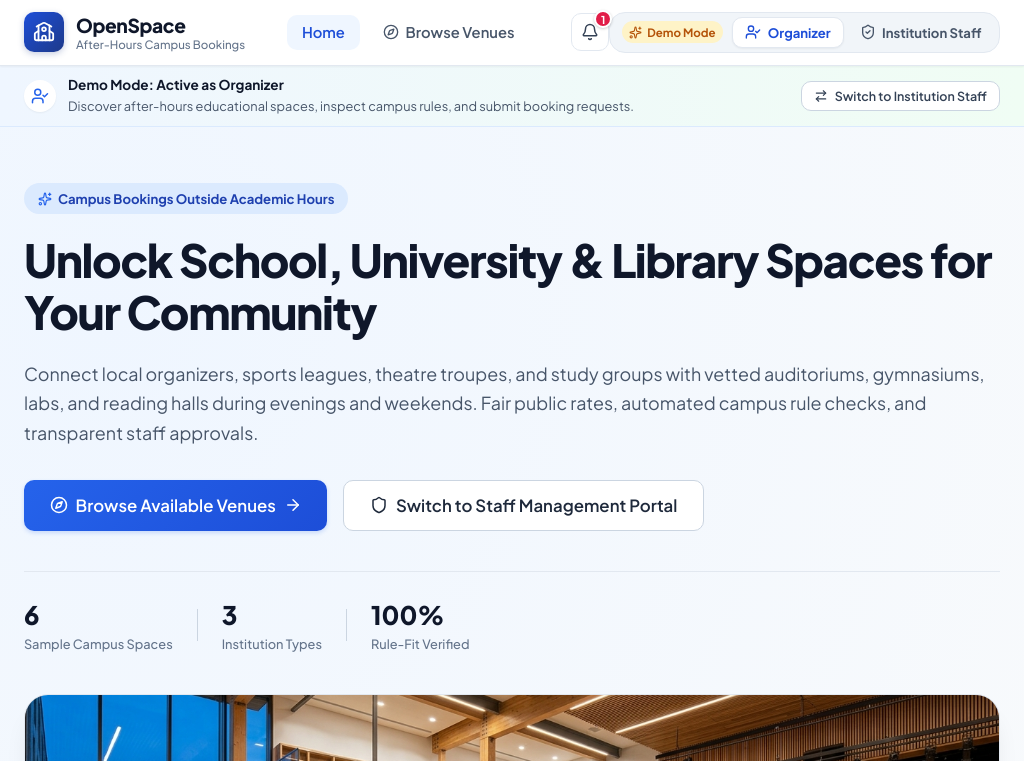
Scenario: App Navigation and Shell Integration › toggles demo role between Organizer and Staff and displays active banner
The width and height of the screenshot is (1024, 761).
Expected: the text "Demo Mode: Active as Organizer" is shown, [68,76,284,93]
Click the button with aria-label "switch demo mode to institution staff": (901, 96) [801,81,1000,111]
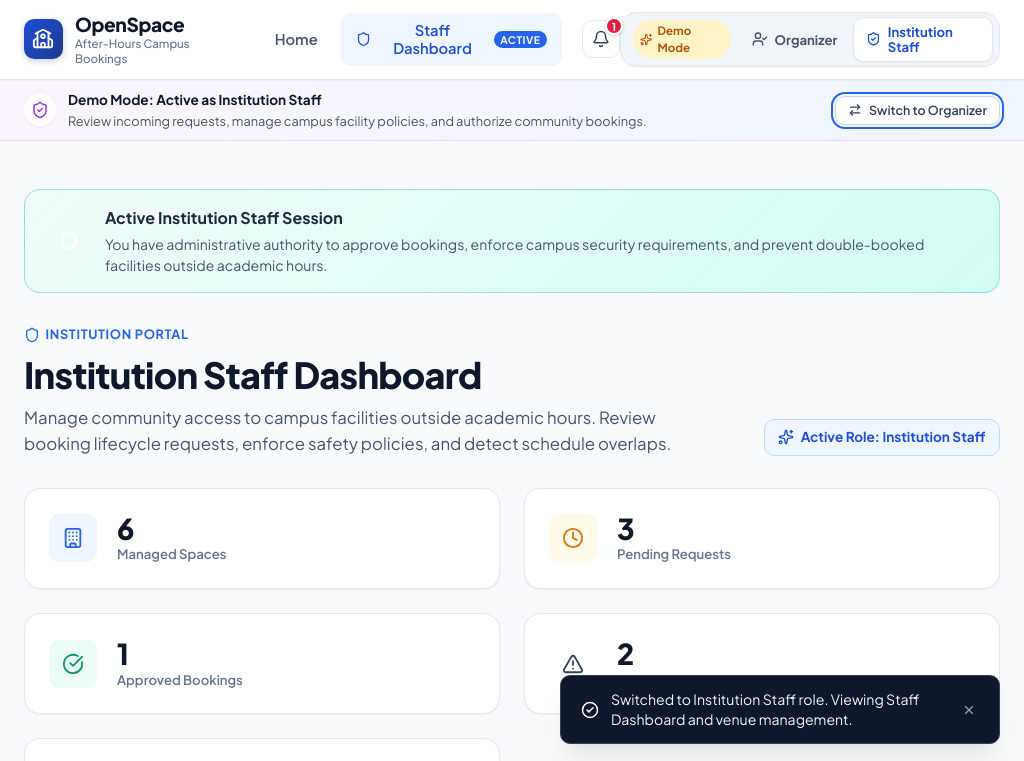
Now the text "Demo Mode: Active as Institution Staff" is shown, box [68,91,322,108]
